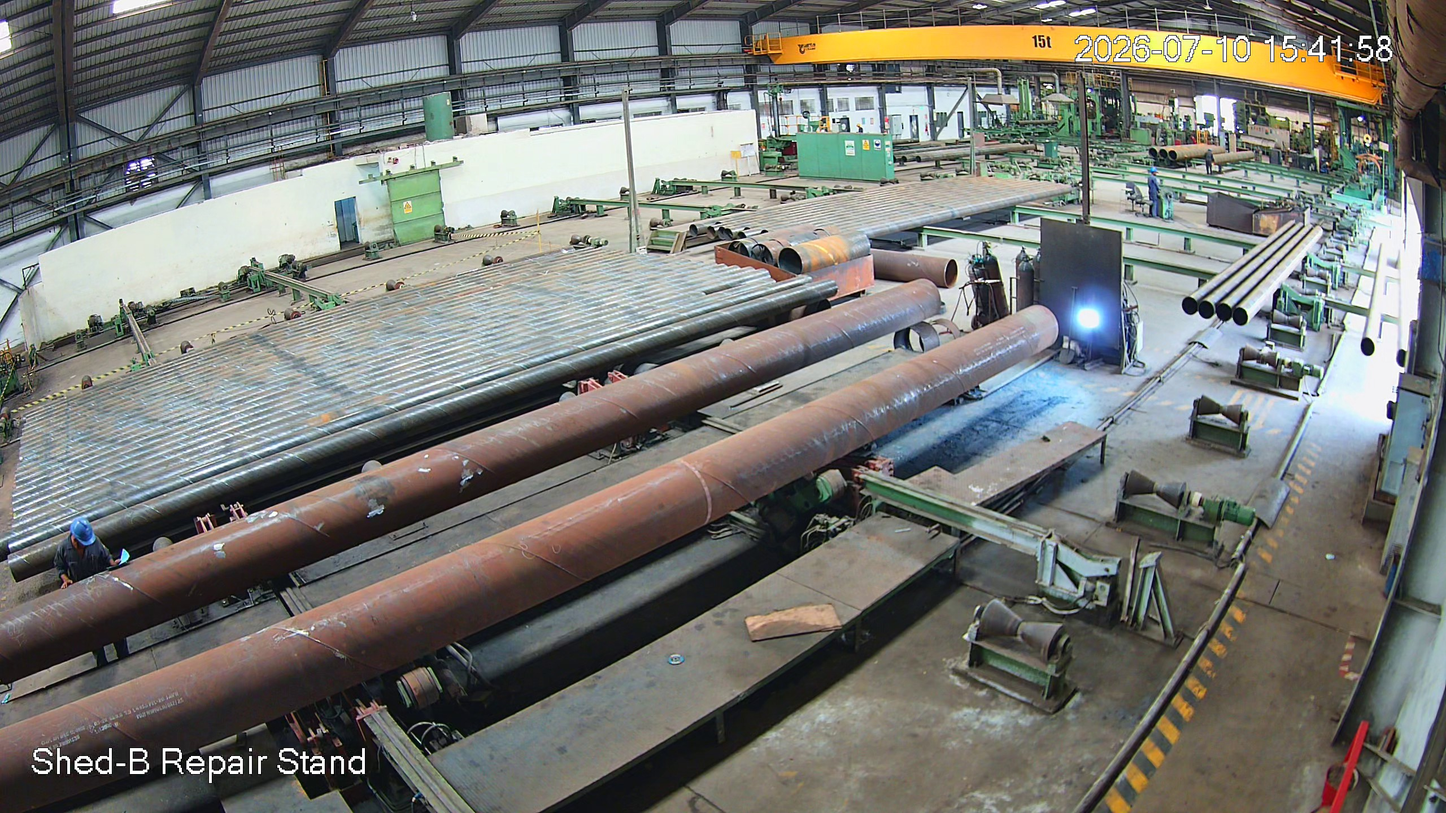Helmet: (60, 509, 130, 573)
Person: (51, 520, 144, 669)
